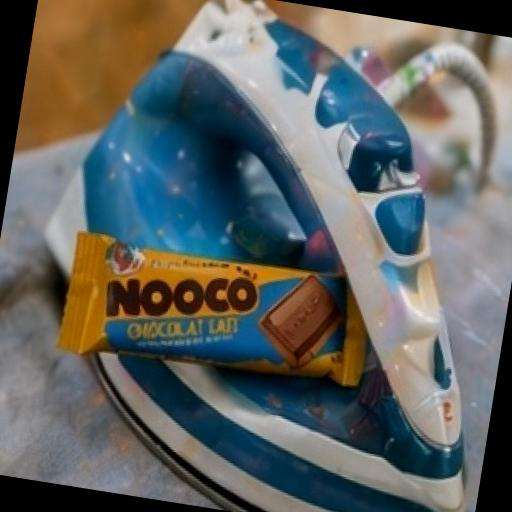nooco: (24, 165, 484, 467)
